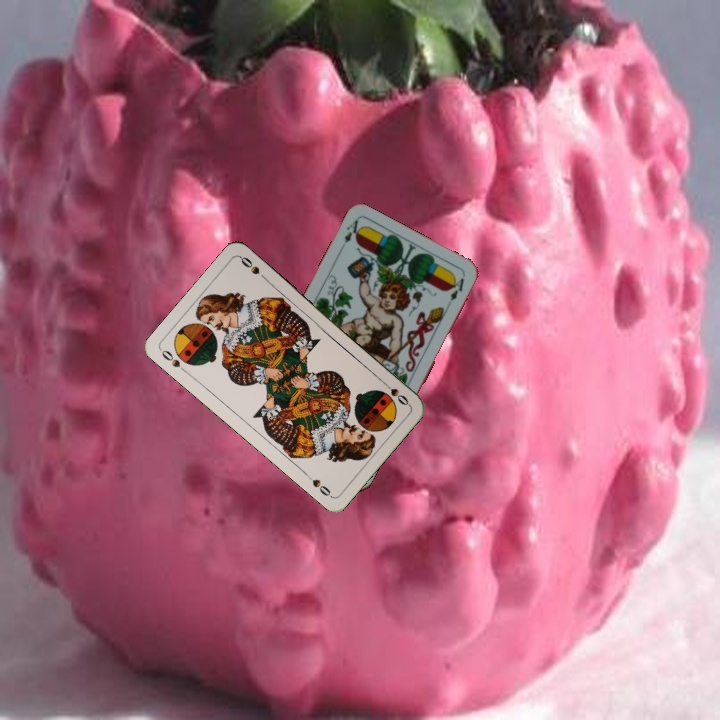EA: (335, 216, 364, 254)
SO: (378, 377, 412, 408), (157, 346, 191, 376)
